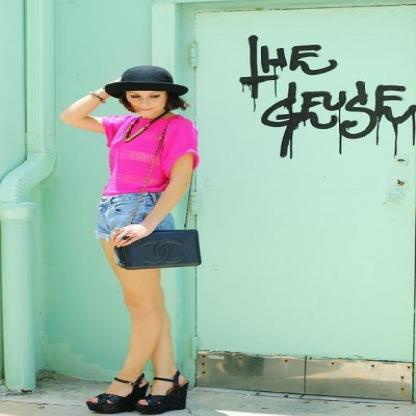bag: (114, 229, 201, 269)
hat: (103, 66, 174, 102)
shirt: (103, 110, 197, 197)
shoe: (87, 374, 190, 414)
shorts: (99, 192, 182, 232)
